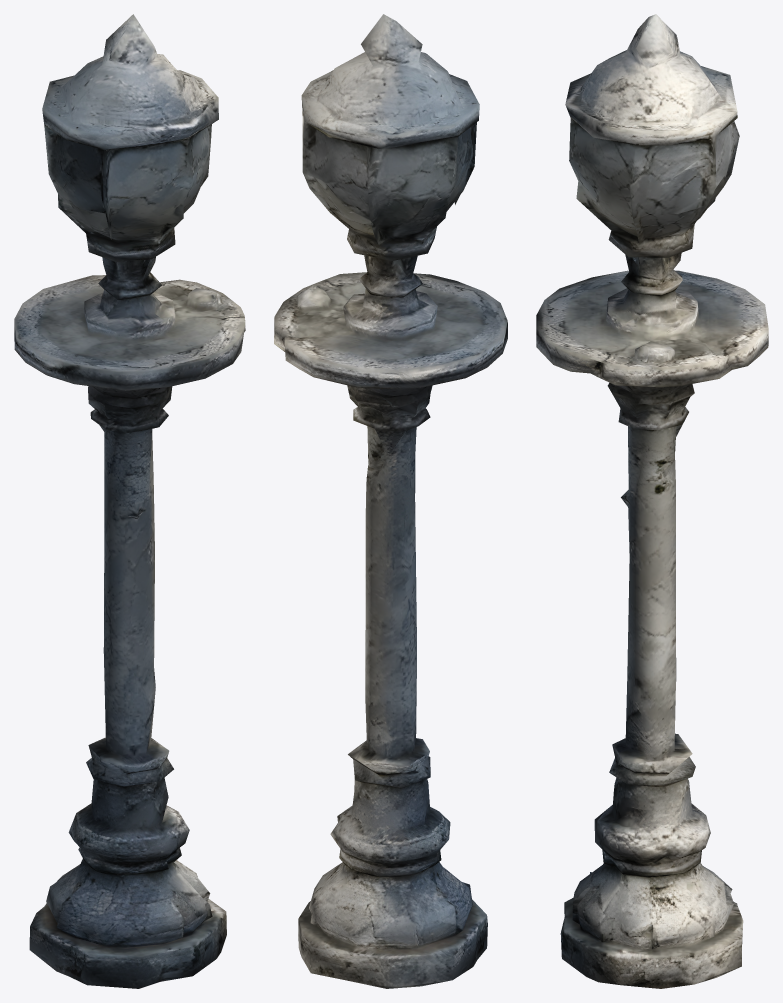
The model's file is sn_lamp.glb.
3 views of the same model, side by side, from view 1: azimuth 30°, elevation 25°; view 2: azimuth 150°, elevation 25°; view 3: azimuth 270°, elevation 25° (orthographic).
Visible parts, largest first — view 1: tripo_node_cc72b909-0c9f-4eab-ab16-381007679da0; view 2: tripo_node_cc72b909-0c9f-4eab-ab16-381007679da0; view 3: tripo_node_cc72b909-0c9f-4eab-ab16-381007679da0.
Part boxes in pixels (x1,y1,x2,y2): tripo_node_cc72b909-0c9f-4eab-ab16-381007679da0: [14, 14, 245, 988]; tripo_node_cc72b909-0c9f-4eab-ab16-381007679da0: [274, 14, 507, 988]; tripo_node_cc72b909-0c9f-4eab-ab16-381007679da0: [536, 14, 768, 988].
Size of the model in its own units: 0.2246 by 1 by 0.2243.
Materials: 1 (1 with a texture image).
